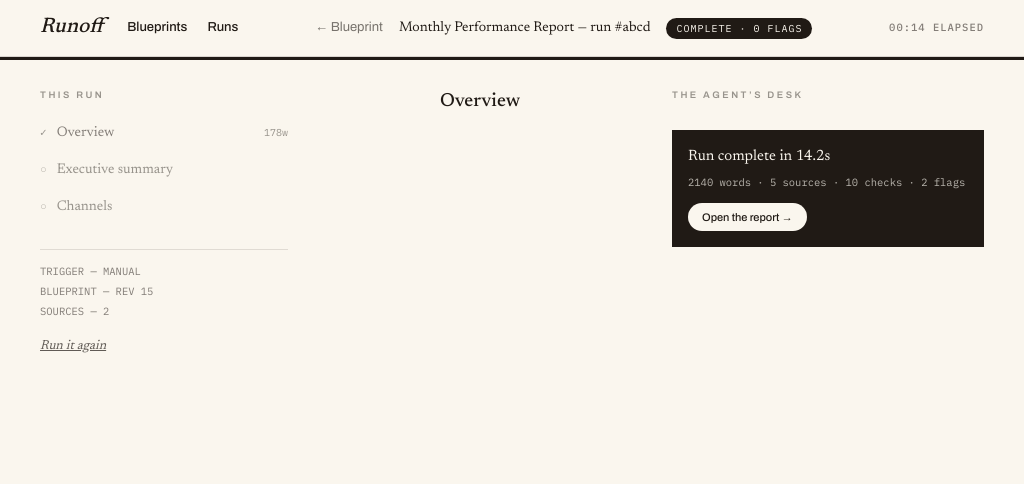
it: Live Run — pause and completion › shows the completion card and hands off to the Reader
Check: the element with test id "completion-card" shows "Run complete in 14.2s", box x1=672 y1=130 x2=984 y2=247
Check: the text "COMPLETE · 0 FLAGS" is shown, box x1=666 y1=18 x2=812 y2=38
Click the button "Open the report →": (747, 217) x1=688 y1=202 x2=807 y2=231
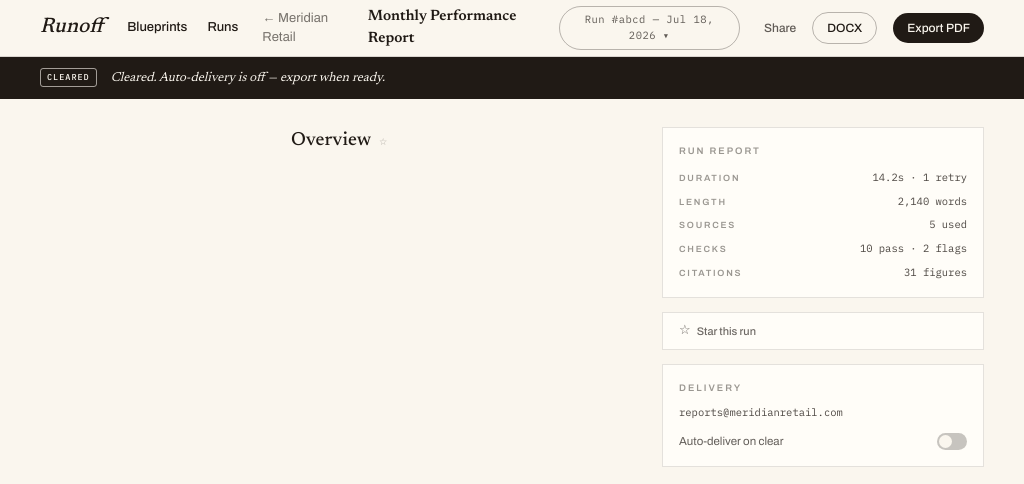
Check: the element with test id "run-report" is shown, box x1=662 y1=126 x2=984 y2=298
Check: the element with test id "completion-card" is gone
